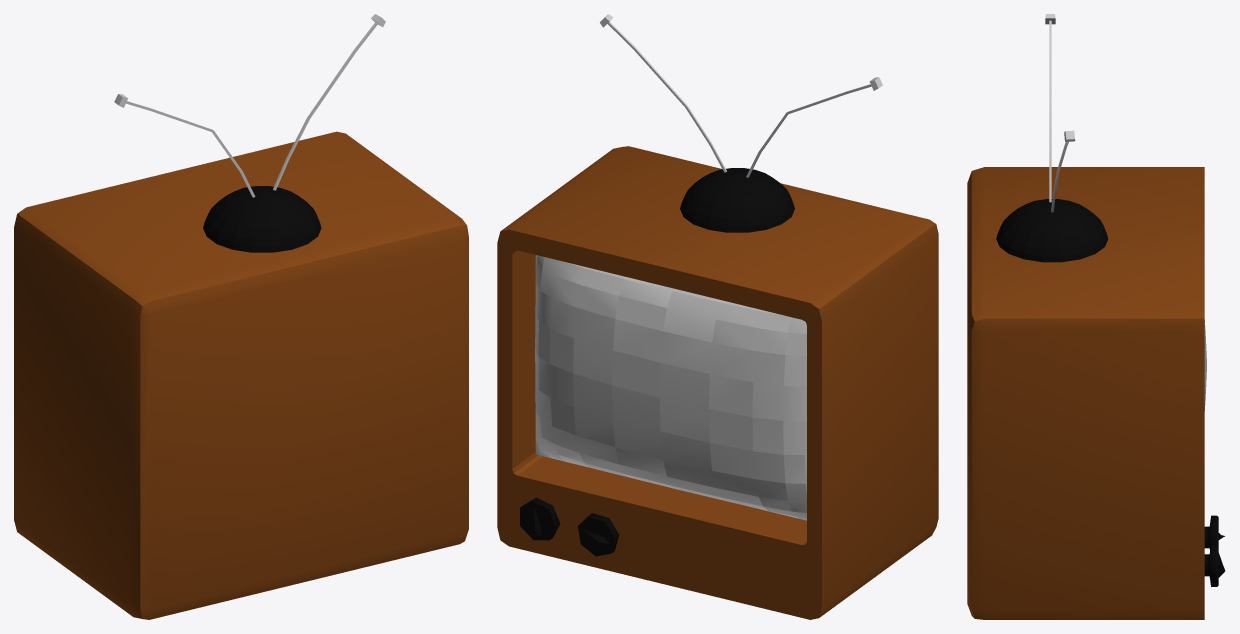
Rendered from old_shitty_tv_001.FBX.
3 views of the same model, side by side, from view 1: azimuth 30°, elevation 25°; view 2: azimuth 150°, elevation 25°; view 3: azimuth 270°, elevation 25° (orthographic). The views are drawn at different scales.
Parts seen in each view (by area): view 1: Box021, Sphere003, Box026, Box025; view 2: Box021, Box022, Sphere003, Cylinder008, Cylinder007, Box026, Box025; view 3: Box021, Sphere003, Box025, Cylinder007, Cylinder008, Box026.
Boxes of the visible parts, <box> form: Box021: <box>14,131,468,619</box>; Sphere003: <box>203,186,321,252</box>; Box026: <box>273,14,385,190</box>; Box025: <box>114,94,255,197</box>; Box021: <box>497,146,938,619</box>; Box022: <box>535,255,806,520</box>; Sphere003: <box>680,168,794,232</box>; Cylinder008: <box>578,513,619,556</box>; Cylinder007: <box>520,497,560,540</box>; Box026: <box>600,14,726,172</box>; Box025: <box>746,77,882,177</box>; Box021: <box>967,167,1204,619</box>; Sphere003: <box>996,199,1108,262</box>; Box025: <box>1045,14,1055,202</box>; Cylinder007: <box>1204,543,1218,586</box>; Cylinder008: <box>1204,515,1218,550</box>; Box026: <box>1051,130,1075,212</box>.
Bounding box in the file's own units: 0.6419 × 0.9203 × 0.4532.
